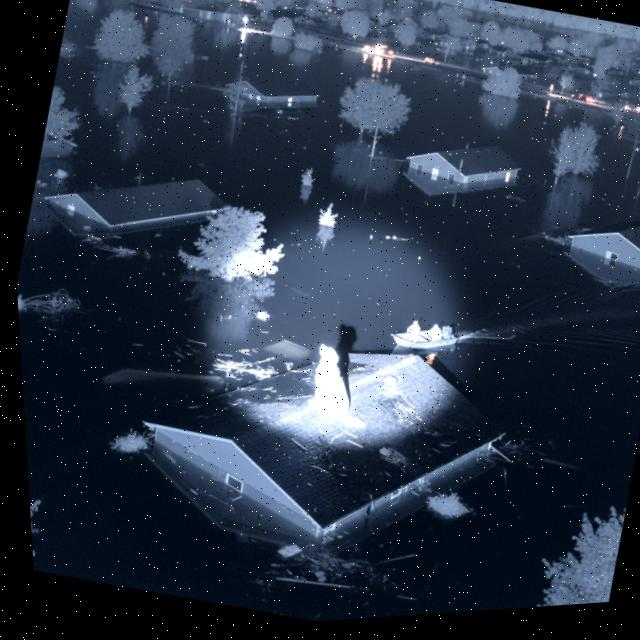dog: (287, 328, 390, 448)
rescuer: (400, 314, 426, 346), (423, 318, 447, 345)
